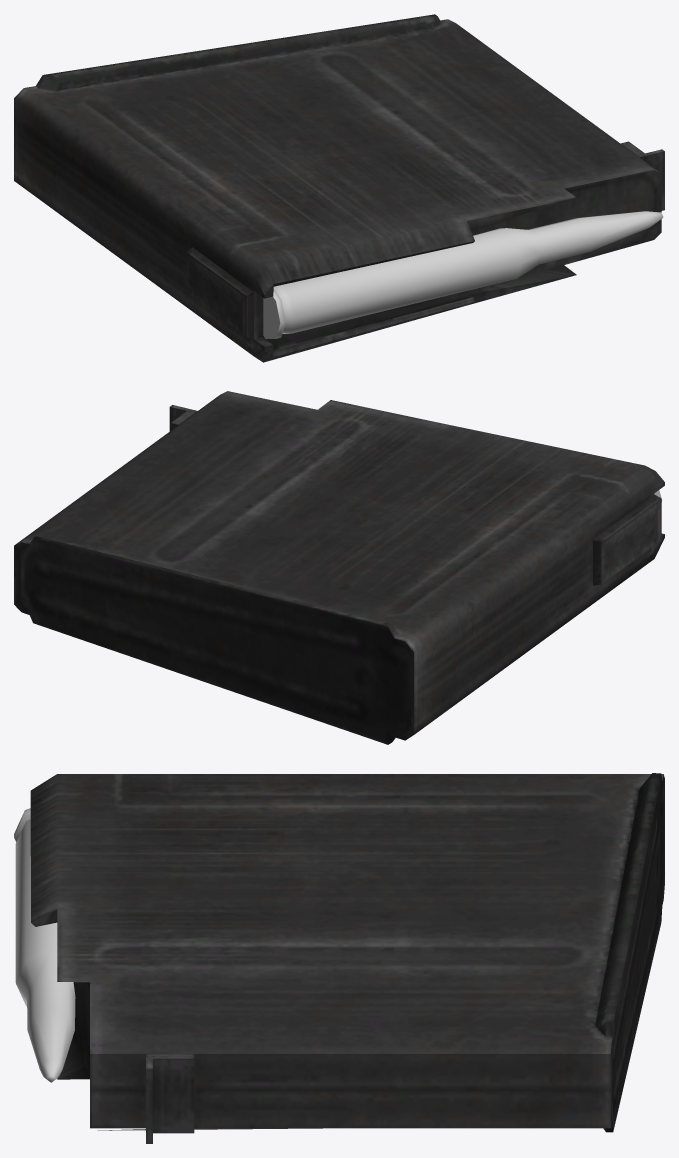
The model's file is t6_attach_fastmag_xpr50_view_LOD0.obj.
3 views of the same model, one above another, from view 1: azimuth 30°, elevation 25°; view 2: azimuth 150°, elevation 25°; view 3: azimuth 270°, elevation 25° (orthographic). The views are drawn at different scales.
Visible parts, largest first — view 1: mtl_t6_wpn_sniper_xpr50, mtl_t6_attach_bullet, mtl_t6_wpn_sniper_xpr50_camo2; view 2: mtl_t6_wpn_sniper_xpr50, mtl_t6_wpn_sniper_xpr50_camo2; view 3: mtl_t6_wpn_sniper_xpr50, mtl_t6_wpn_sniper_xpr50_camo2, mtl_t6_attach_bullet.
Part boxes in pixels (bbox=[...]): mtl_t6_wpn_sniper_xpr50: bbox=[14, 19, 664, 362]; mtl_t6_attach_bullet: bbox=[263, 211, 663, 338]; mtl_t6_wpn_sniper_xpr50_camo2: bbox=[36, 14, 661, 350]; mtl_t6_wpn_sniper_xpr50: bbox=[15, 391, 664, 734]; mtl_t6_wpn_sniper_xpr50_camo2: bbox=[14, 536, 413, 744]; mtl_t6_wpn_sniper_xpr50: bbox=[30, 774, 663, 1143]; mtl_t6_wpn_sniper_xpr50_camo2: bbox=[57, 773, 664, 1132]; mtl_t6_attach_bullet: bbox=[14, 808, 75, 1082].
Size of the model in its own units: 14.34 by 3.56 by 14.08.
